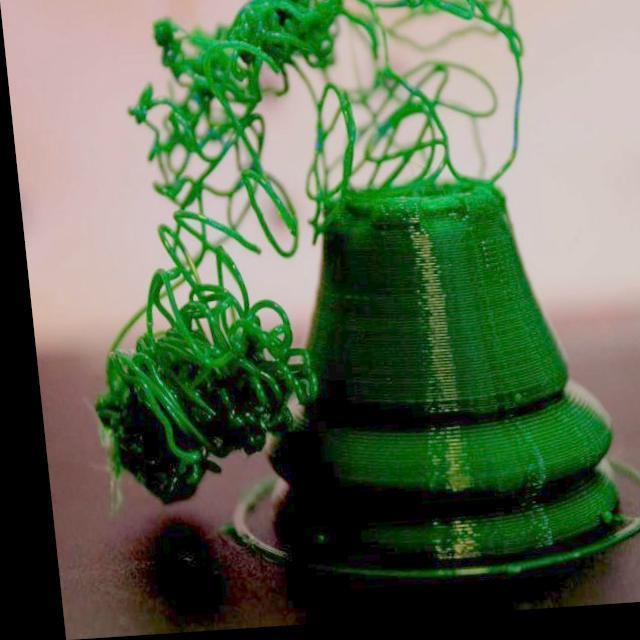spaghetti: (54, 233, 327, 516), (81, 1, 360, 237), (323, 1, 541, 203)
